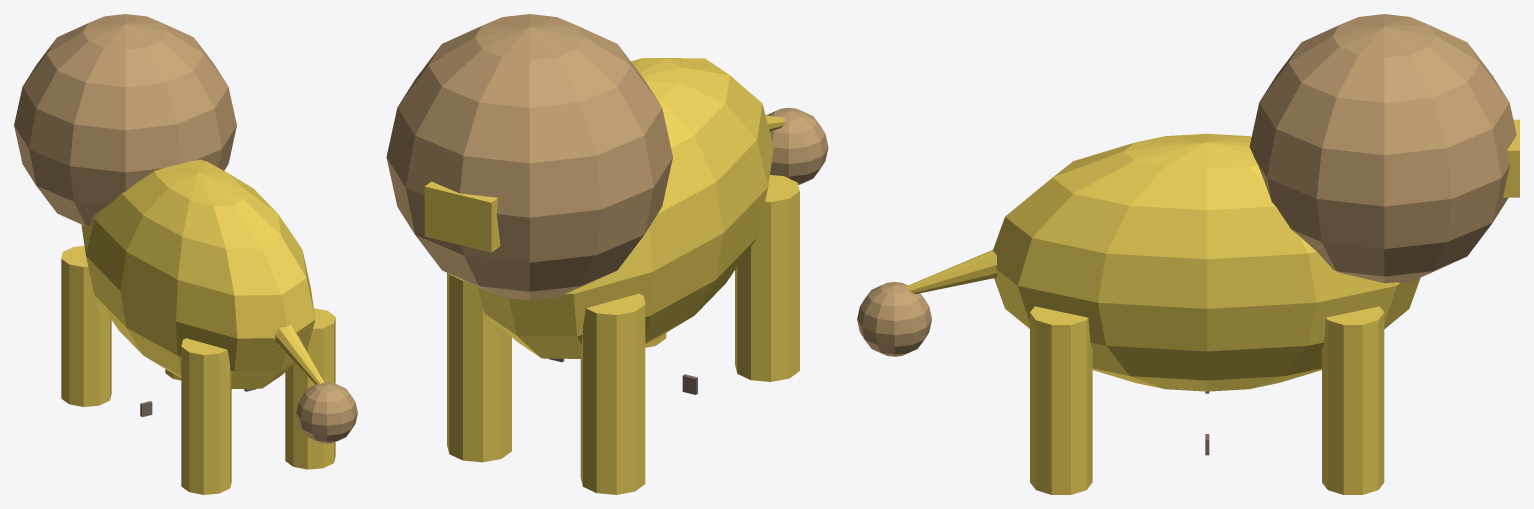
File: nemean_lion.glb
3 renders of one model, left to right at view 1: azimuth 30°, elevation 25°; view 2: azimuth 150°, elevation 25°; view 3: azimuth 270°, elevation 25°, orthographic. The views are drawn at different scales.
Visible parts, largest first — view 1: lion_body, lion_mane, lion_leg_BL, lion_leg_FL, lion_leg_BR, lion_tail_tuft, lion_tail; view 2: lion_mane, lion_body, lion_leg_FL, lion_leg_BL, lion_leg_FR, lion_moncong, lion_tail_tuft; view 3: lion_body, lion_mane, lion_leg_FR, lion_leg_BR, lion_tail_tuft, lion_tail, lion_moncong.
Boxes of the visible parts, x1,y1,x2,y2 form: lion_body: [81, 159, 315, 388]; lion_mane: [14, 14, 236, 226]; lion_leg_BL: [181, 338, 231, 494]; lion_leg_FL: [61, 246, 111, 406]; lion_leg_BR: [285, 308, 335, 469]; lion_tail_tuft: [296, 382, 357, 443]; lion_tail: [275, 325, 324, 384]; lion_mane: [386, 14, 672, 300]; lion_body: [477, 58, 773, 358]; lion_leg_FL: [580, 293, 645, 494]; lion_leg_BL: [735, 175, 799, 381]; lion_leg_FR: [447, 273, 511, 462]; lion_moncong: [424, 181, 500, 252]; lion_tail_tuft: [766, 107, 828, 184]; lion_body: [992, 133, 1420, 391]; lion_mane: [1249, 14, 1516, 283]; lion_leg_FR: [1322, 306, 1384, 494]; lion_leg_BR: [1030, 306, 1092, 494]; lion_tail_tuft: [857, 282, 931, 356]; lion_tail: [905, 250, 997, 293]; lion_moncong: [1503, 119, 1519, 197].
Bounding box in the file's own units: 1.3 × 2.25 × 3.18.
